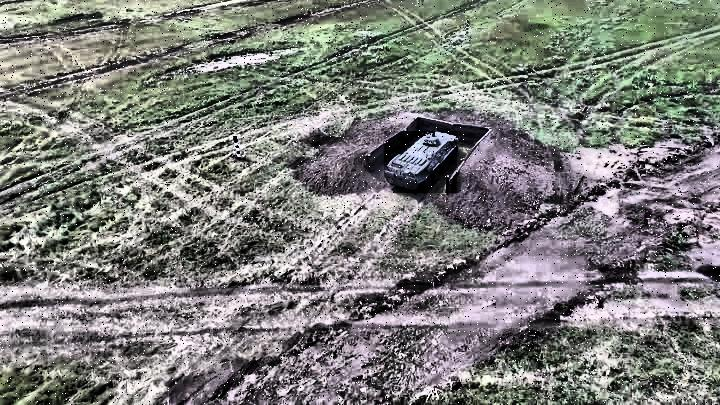military-vehicle: (385, 131, 458, 193)
